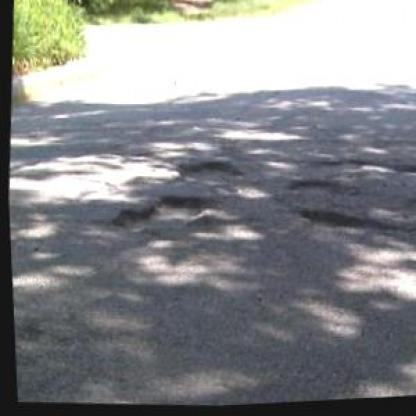pothole: (108, 187, 211, 240), (294, 207, 363, 238), (172, 157, 243, 183)
